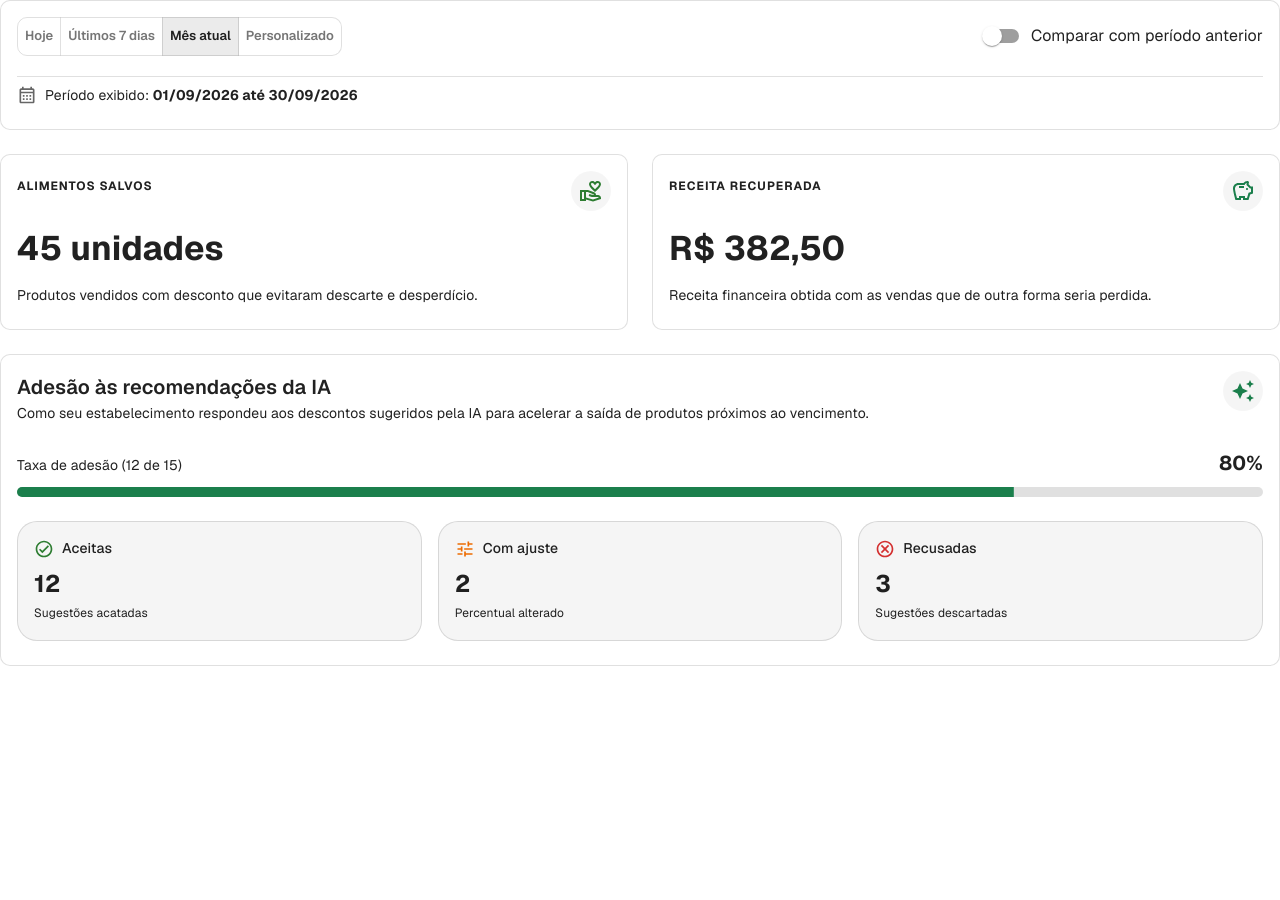
Scenario: IndicatorsDashboard › shows date inputs when CUSTOM is selected and validates date order
Expected: the text "Alimentos Salvos" is shown, [17,178,153,194]
Step 1. Click the button "Personalizado" → (290, 36), box [238,17,342,56]
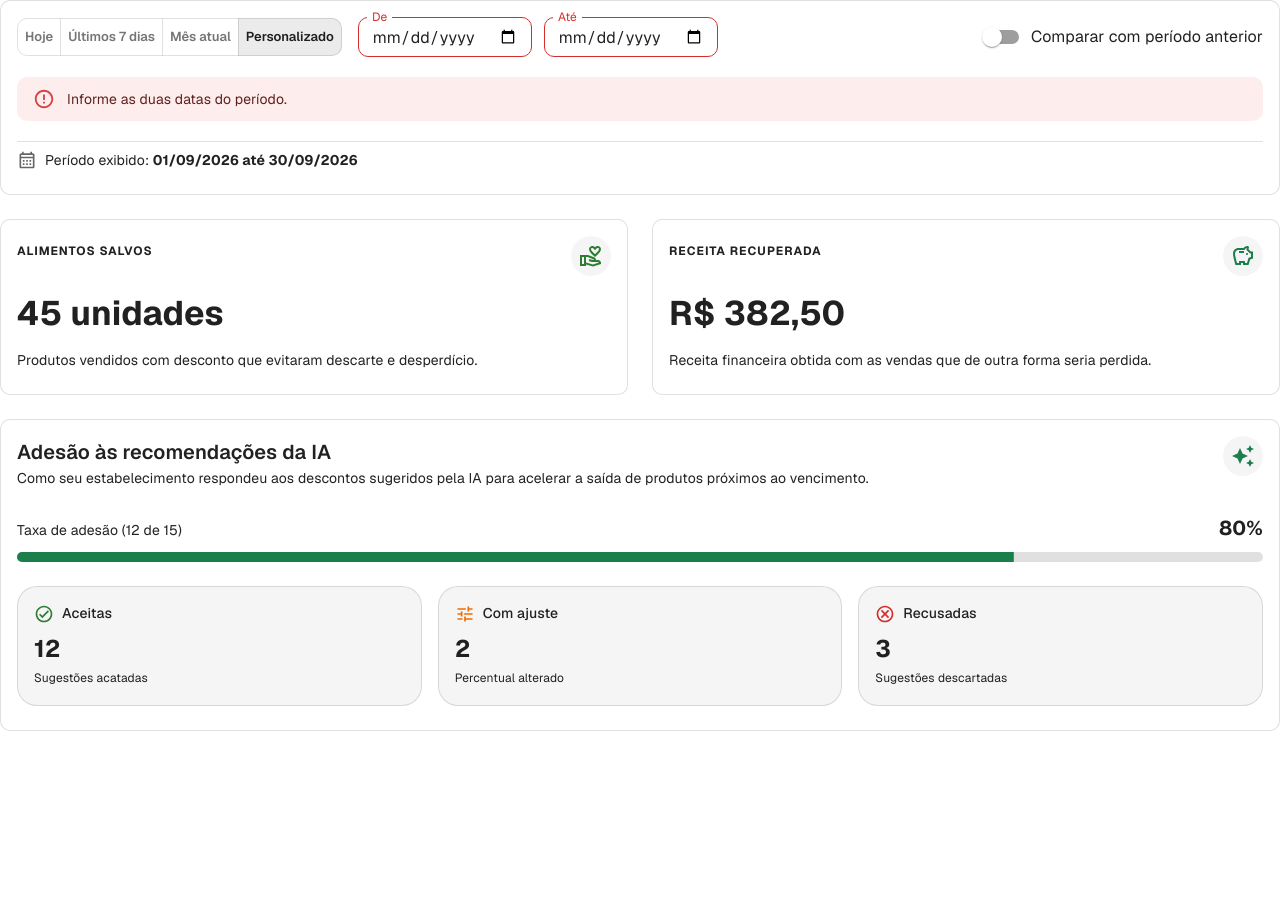
Now the date field labelled "De" is shown
Now the date field labelled "Até" is shown, box [544,17,718,57]
# Test invalid dates
Step 2. Type "2026-09-20" into the date field labelled "De" → (445, 37), box [358,17,532,57]
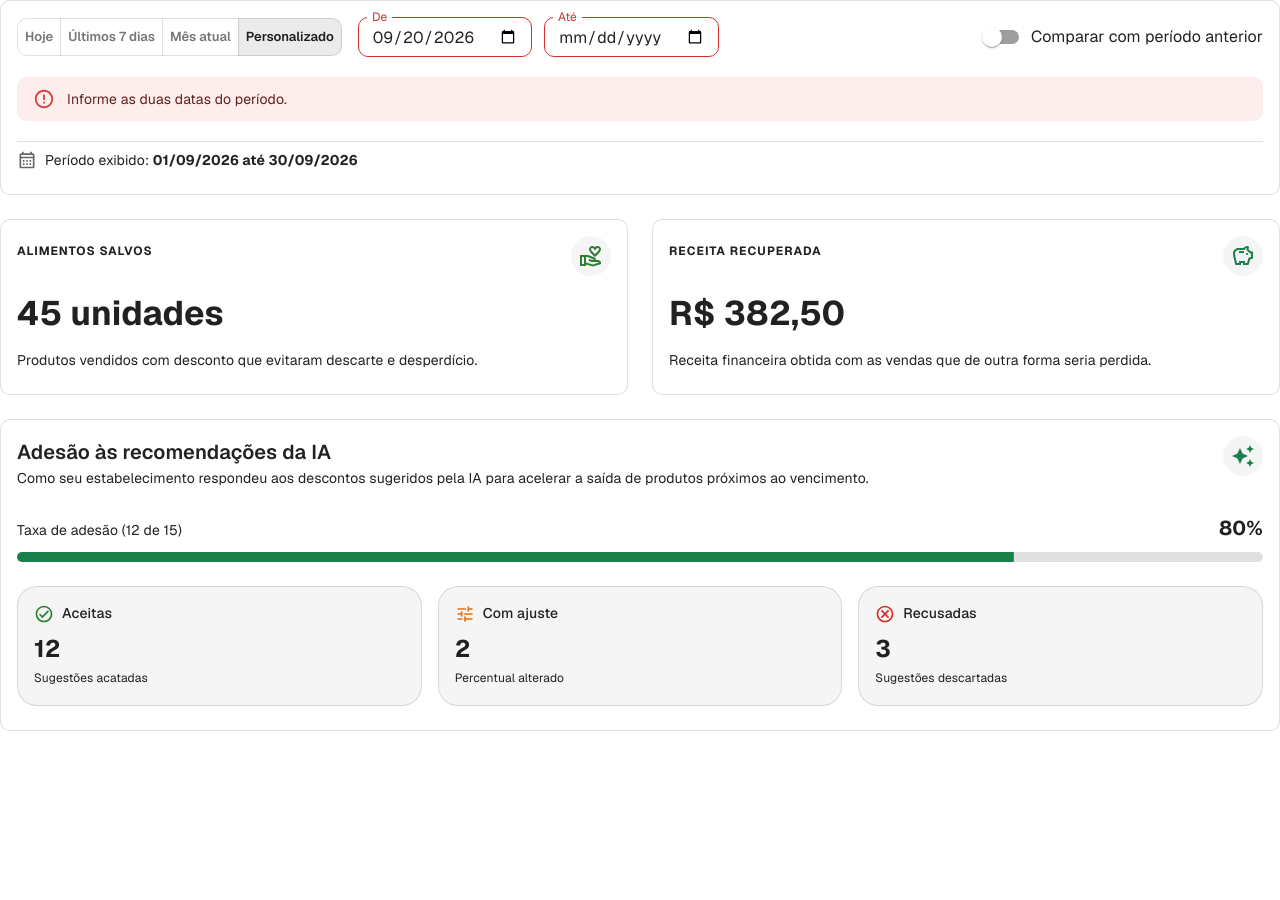
Step 3. Type "2026-09-10" into the date field labelled "Até" → (632, 37), box [544,17,719,57]
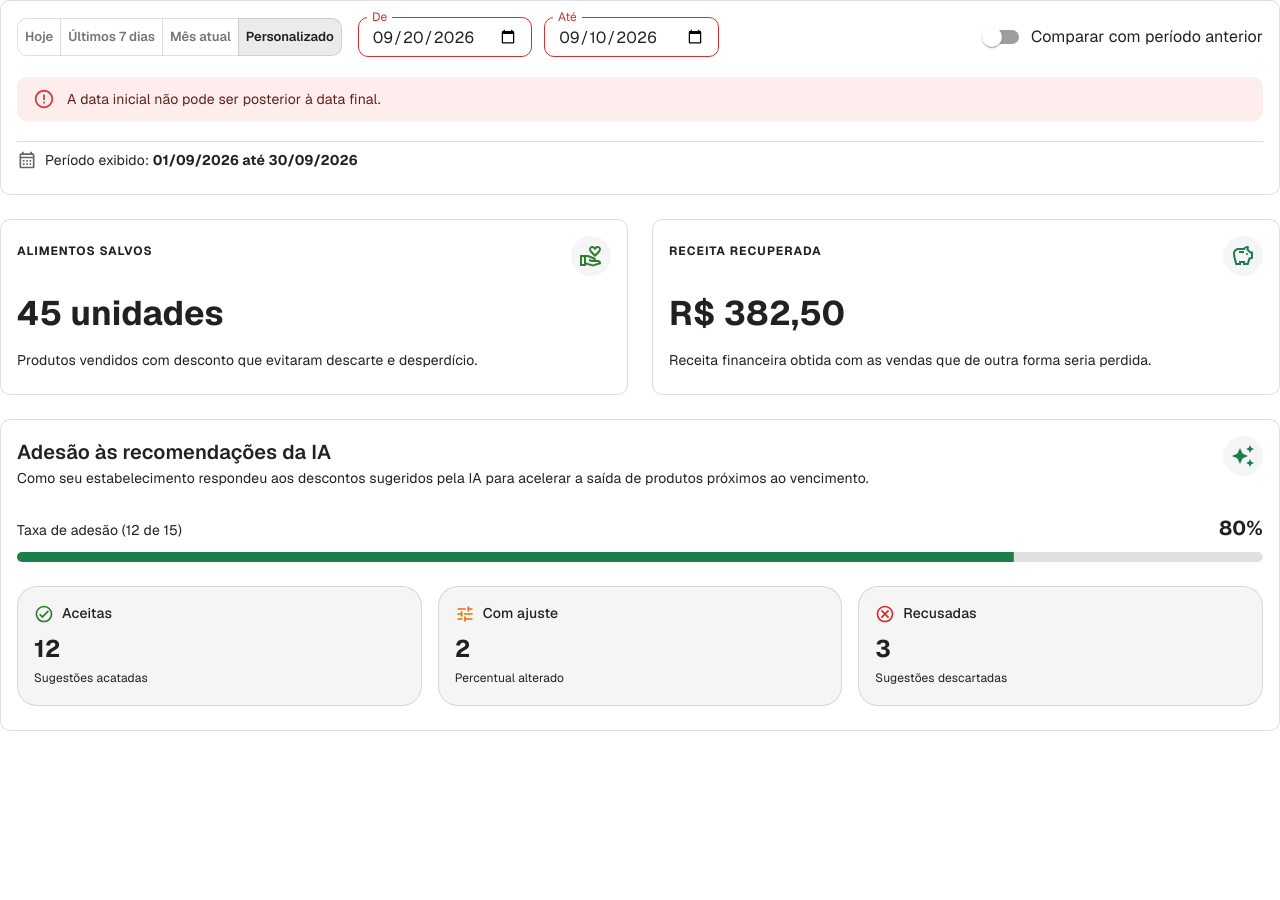
Now the text "A data inicial não pode ser posterior à data final." is shown, box [67,90,381,108]
